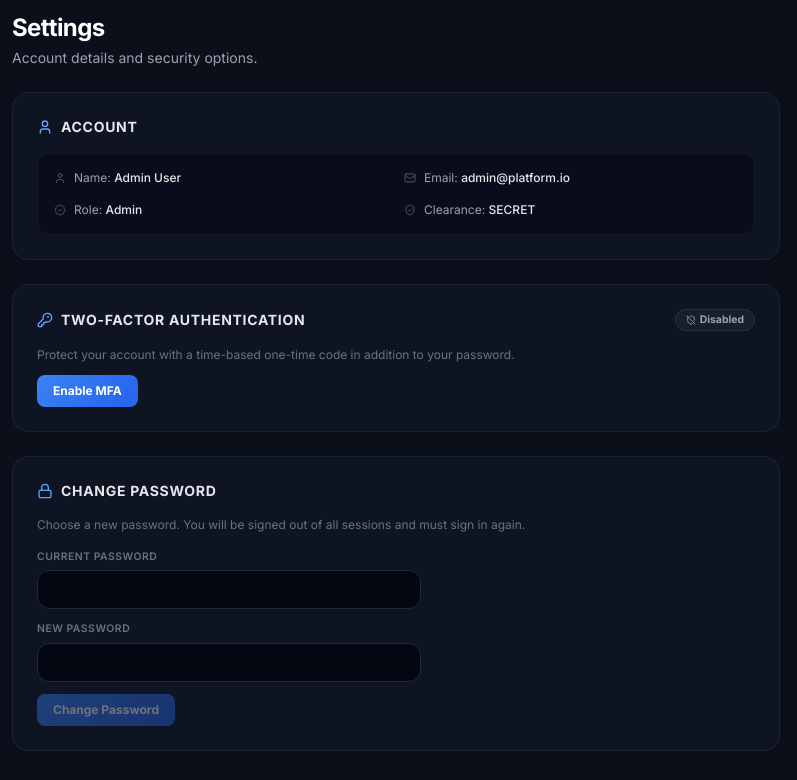
Test case: <Settings /> change password form › submits the entered credentials to authApi.changePassword once validation passes
Expected: the button "Change Password" is shown, [37,694,175,726]
Step 1. Type "oldpass" into the password field below "Current Password" → point(229, 590), box [37,570,421,609]
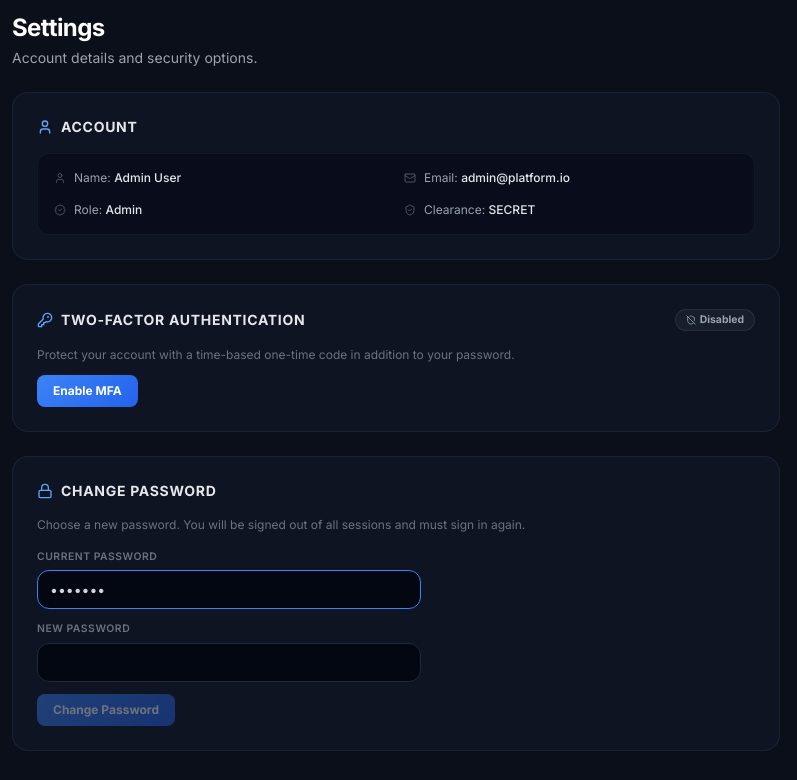
Step 2. Type "newpass1" into the 2nd password field → point(229, 662), box [37,643,421,682]
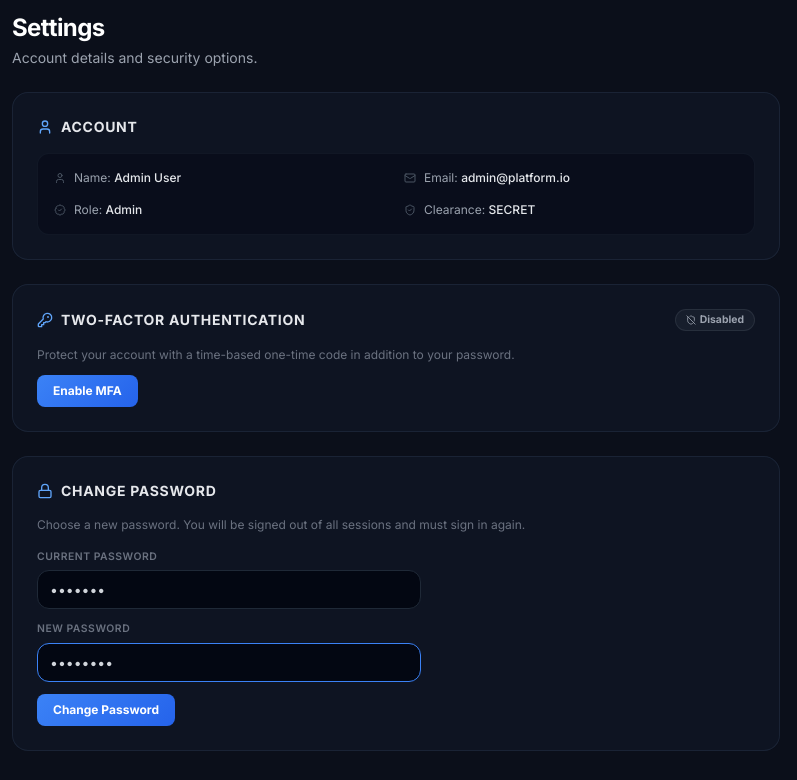
Step 3. Click the button "Change Password" → point(106, 710), box [37,694,175,726]
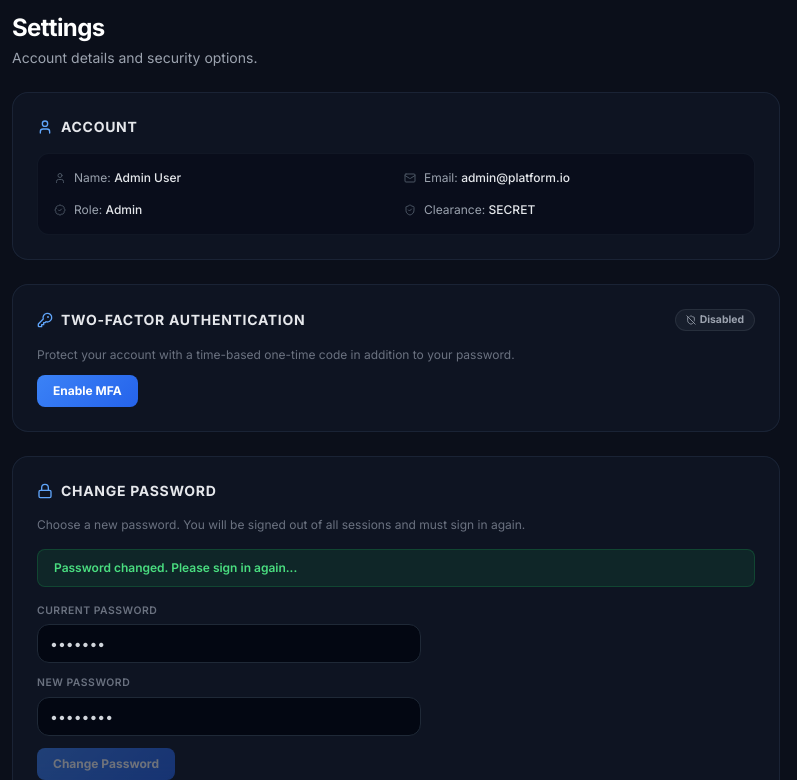
Expected: the text "Password changed. Please sign in again..." is shown, [37,549,755,587]
